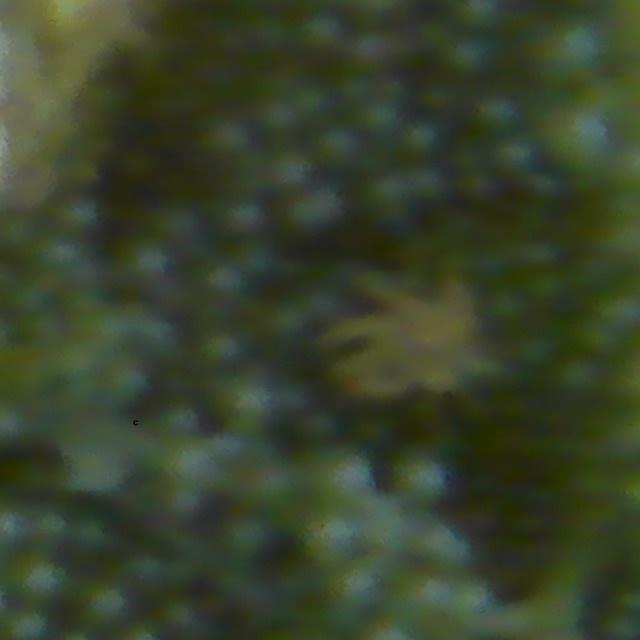SeaGrape: (522, 14, 603, 90), (538, 104, 611, 183), (311, 557, 390, 618), (311, 448, 376, 511), (217, 369, 280, 433), (239, 454, 301, 513), (409, 523, 469, 580), (303, 511, 364, 564), (13, 555, 72, 608), (398, 448, 452, 500), (198, 111, 249, 162), (283, 74, 333, 125), (403, 574, 448, 630), (298, 12, 345, 62), (362, 176, 414, 221), (250, 94, 299, 140), (449, 579, 494, 629), (286, 190, 336, 233), (489, 133, 536, 178), (121, 238, 166, 284), (400, 117, 446, 162), (355, 102, 402, 146), (0, 602, 54, 640), (313, 129, 356, 173), (80, 585, 124, 628), (220, 197, 266, 237), (473, 96, 516, 138), (269, 150, 309, 192), (443, 35, 482, 78), (34, 238, 75, 274), (64, 201, 106, 235), (461, 0, 497, 34)
